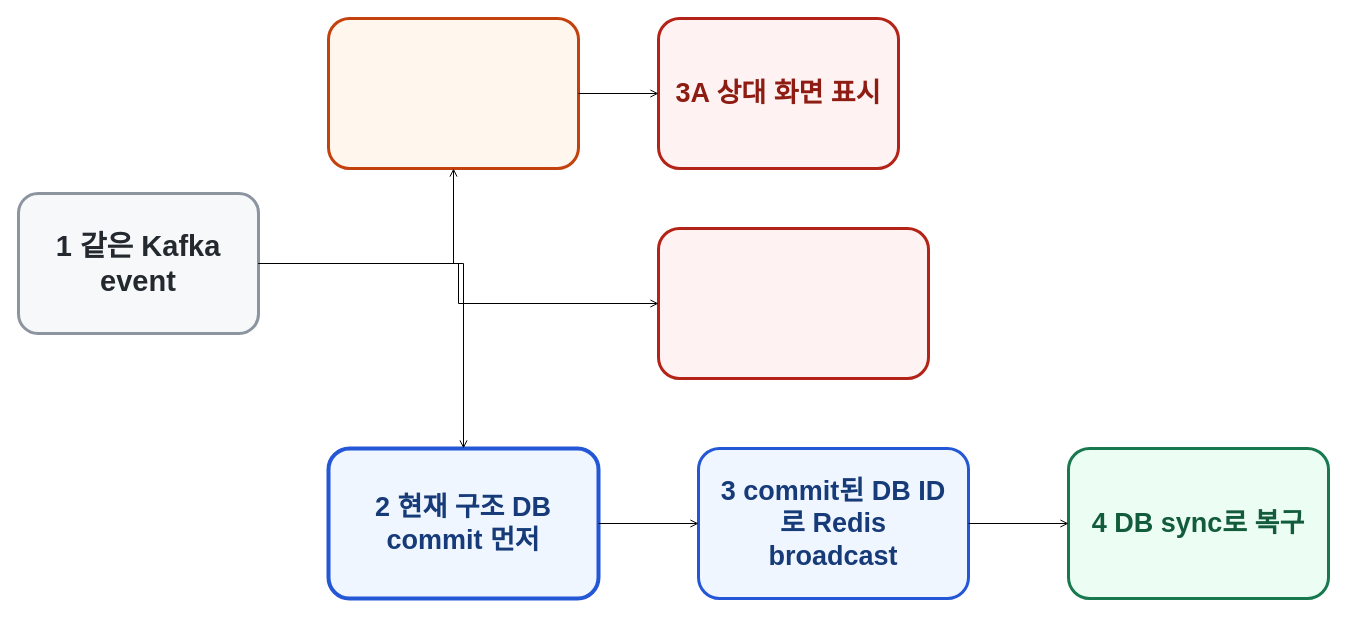
The diagram is 1347 pixels wide and 618 high, and some of its shapes have lost their labels. Each missing label, with the centre of its shape:
2A 이전 구조 Broadcast 먼저: the point at 453,93
3B Persistence 실패 DB에는 메시지 없음: the point at 793,303
